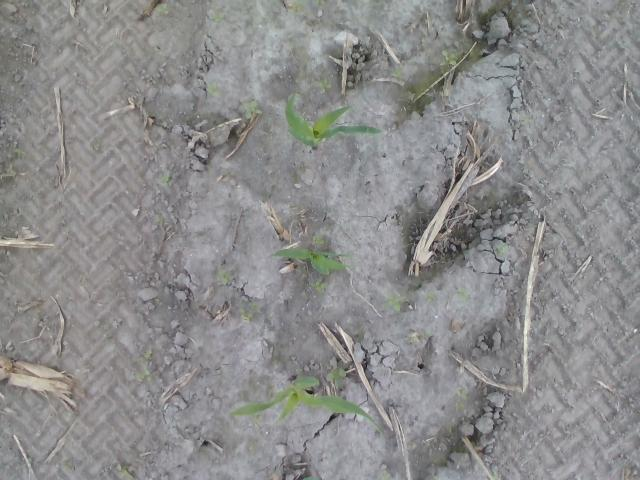Maize: (229, 374, 387, 435), (284, 93, 384, 152), (268, 248, 354, 275)
Weeds: (137, 352, 153, 382), (326, 366, 346, 390), (382, 294, 402, 313), (242, 101, 258, 120), (216, 268, 232, 286), (440, 50, 458, 66), (313, 278, 332, 293), (118, 465, 135, 480), (238, 308, 256, 322), (154, 4, 169, 18), (319, 79, 332, 93), (286, 0, 300, 12), (456, 288, 468, 302), (496, 244, 508, 256), (456, 388, 468, 400), (312, 235, 325, 245), (208, 15, 224, 23), (392, 68, 402, 80), (379, 470, 391, 480), (424, 292, 434, 304), (162, 175, 172, 186), (206, 84, 216, 95)
